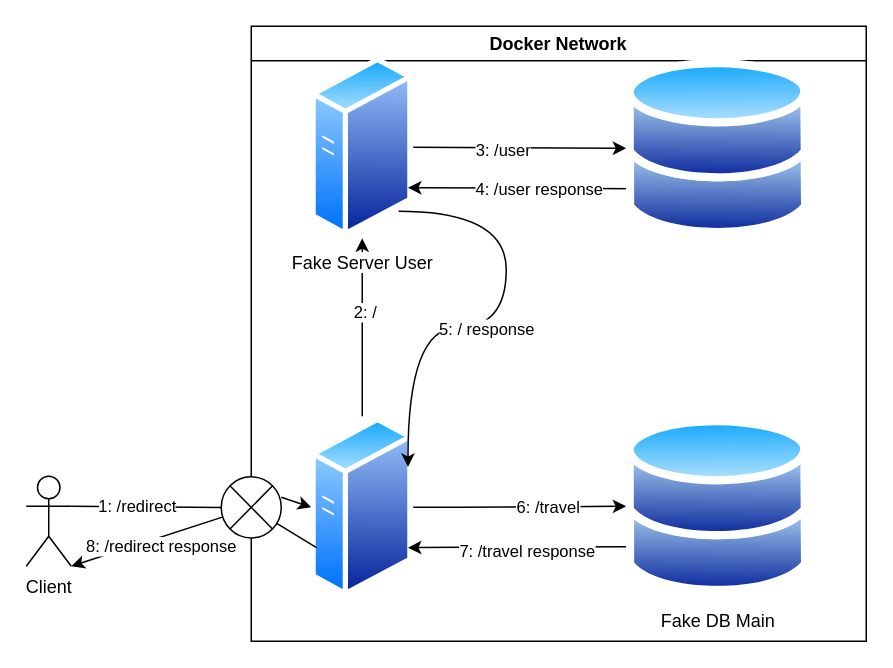
This 893x668 diagram has some shape labels left out. The centre of each missing label's shape, as x and y in pixels:
"Fake DB User" belongs at point 717,148.
"Fake Server Main" belongs at point 361,507.
